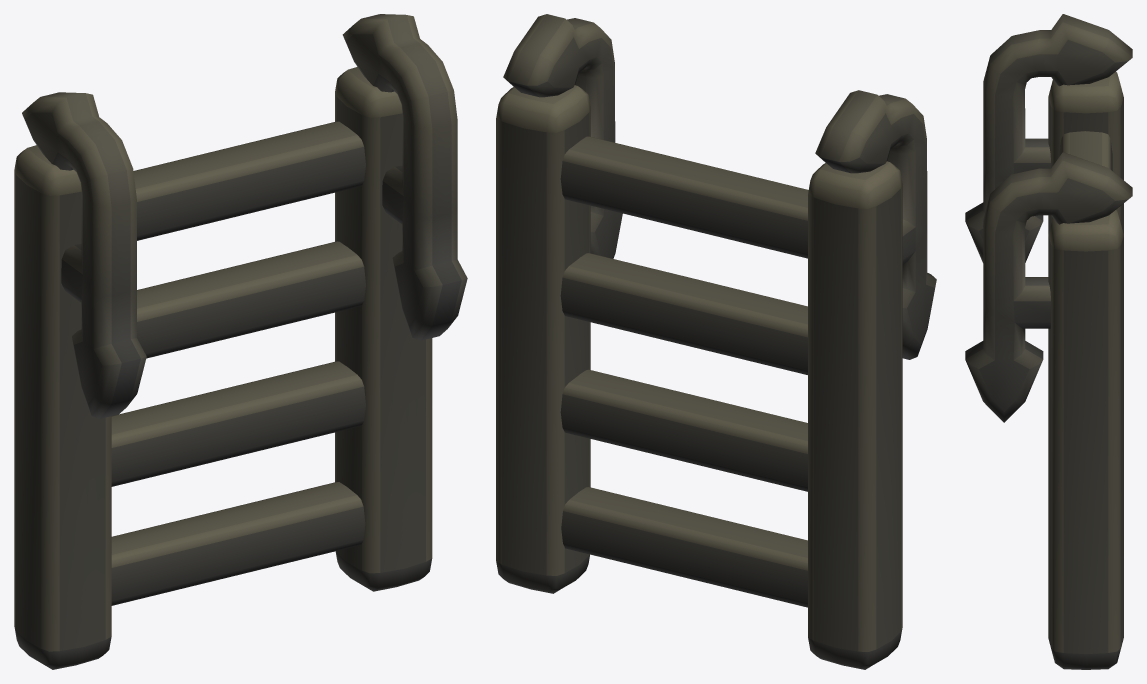
Rendered from DarkStone_Ladder_Top.fbx.
3 renders of one model, left to right at view 1: azimuth 30°, elevation 25°; view 2: azimuth 150°, elevation 25°; view 3: azimuth 270°, elevation 25°, orthographic. The views are drawn at different scales.
Visible parts, largest first — view 1: DarkStone_Ladder_Top_LOD0; view 2: DarkStone_Ladder_Top_LOD0; view 3: DarkStone_Ladder_Top_LOD0.
Boxes of the visible parts, bbox=[...] form: DarkStone_Ladder_Top_LOD0: bbox=[14, 14, 467, 669]; DarkStone_Ladder_Top_LOD0: bbox=[496, 14, 936, 669]; DarkStone_Ladder_Top_LOD0: bbox=[965, 14, 1132, 669].
Size of what is drawn, in the model's own units: 0.8613 by 1.19 by 0.3586.
